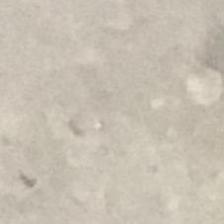Non_Crack: (6, 27, 222, 197)
